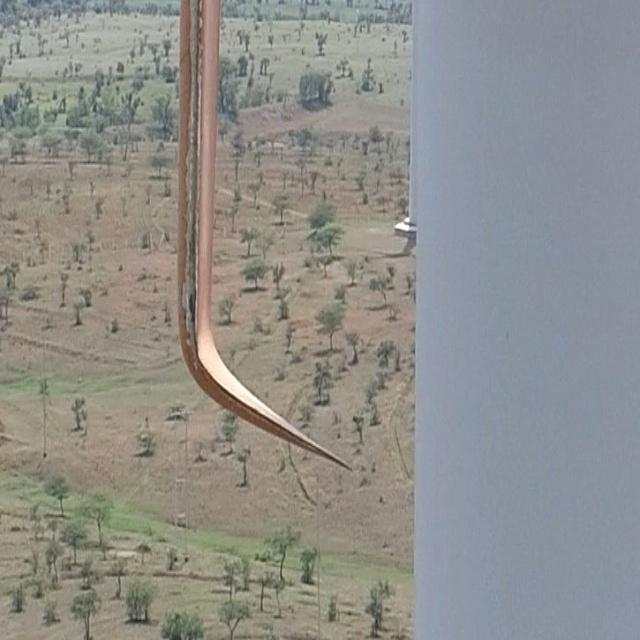EROSION: (186, 10, 205, 281), (166, 291, 210, 364)
